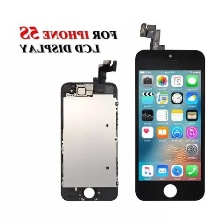phone: (133, 45, 208, 203), (58, 77, 122, 203)
